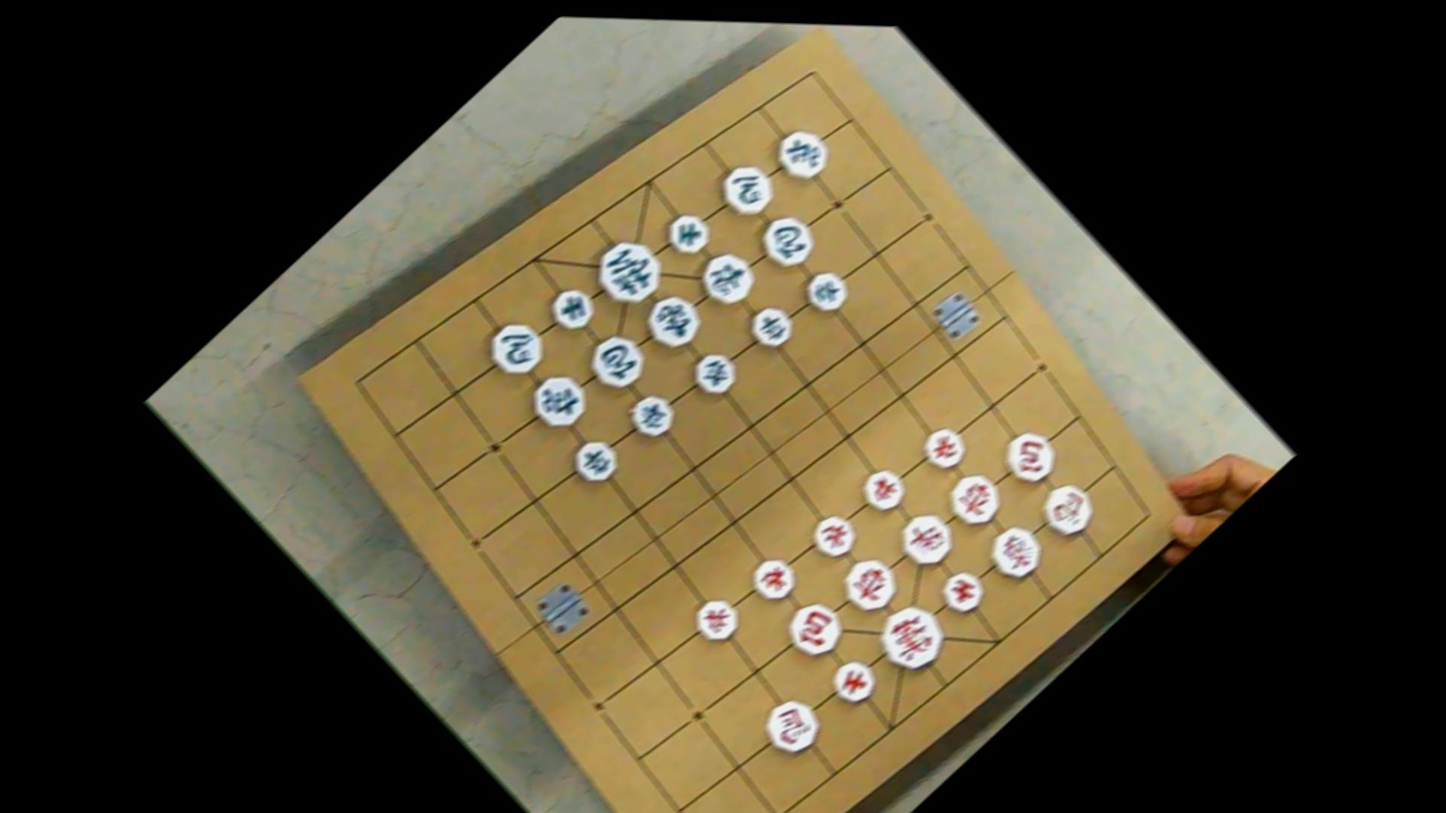cha_green: (523, 365, 595, 436), (768, 120, 836, 187)
cha_red: (834, 549, 905, 620), (941, 465, 1008, 534)
jol_green: (623, 387, 681, 444), (568, 433, 624, 489), (798, 264, 854, 319), (743, 299, 798, 354), (686, 346, 742, 400)
jol_red: (805, 507, 862, 565), (688, 590, 745, 647), (746, 551, 802, 606), (917, 421, 972, 476), (856, 461, 911, 516)
ma_green: (480, 312, 551, 382), (713, 156, 782, 224)
ma_red: (755, 690, 828, 762), (1033, 475, 1100, 543)
po_green: (581, 326, 652, 396), (753, 206, 821, 274)
po_red: (779, 593, 850, 665), (996, 423, 1063, 490)
sa_green: (545, 282, 600, 337), (662, 207, 715, 260)
sa_red: (825, 653, 883, 709), (935, 563, 991, 619)
sang_green: (637, 285, 708, 356), (692, 243, 761, 313)
sang_red: (892, 504, 961, 573), (981, 518, 1051, 586)
wang_green: (585, 227, 671, 313)
wang_red: (869, 594, 954, 680)
